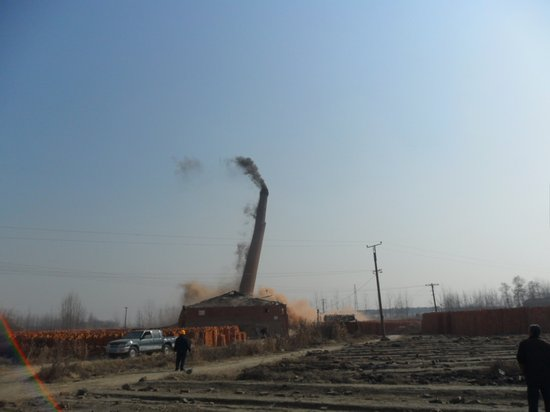dust: (225, 147, 277, 195)
